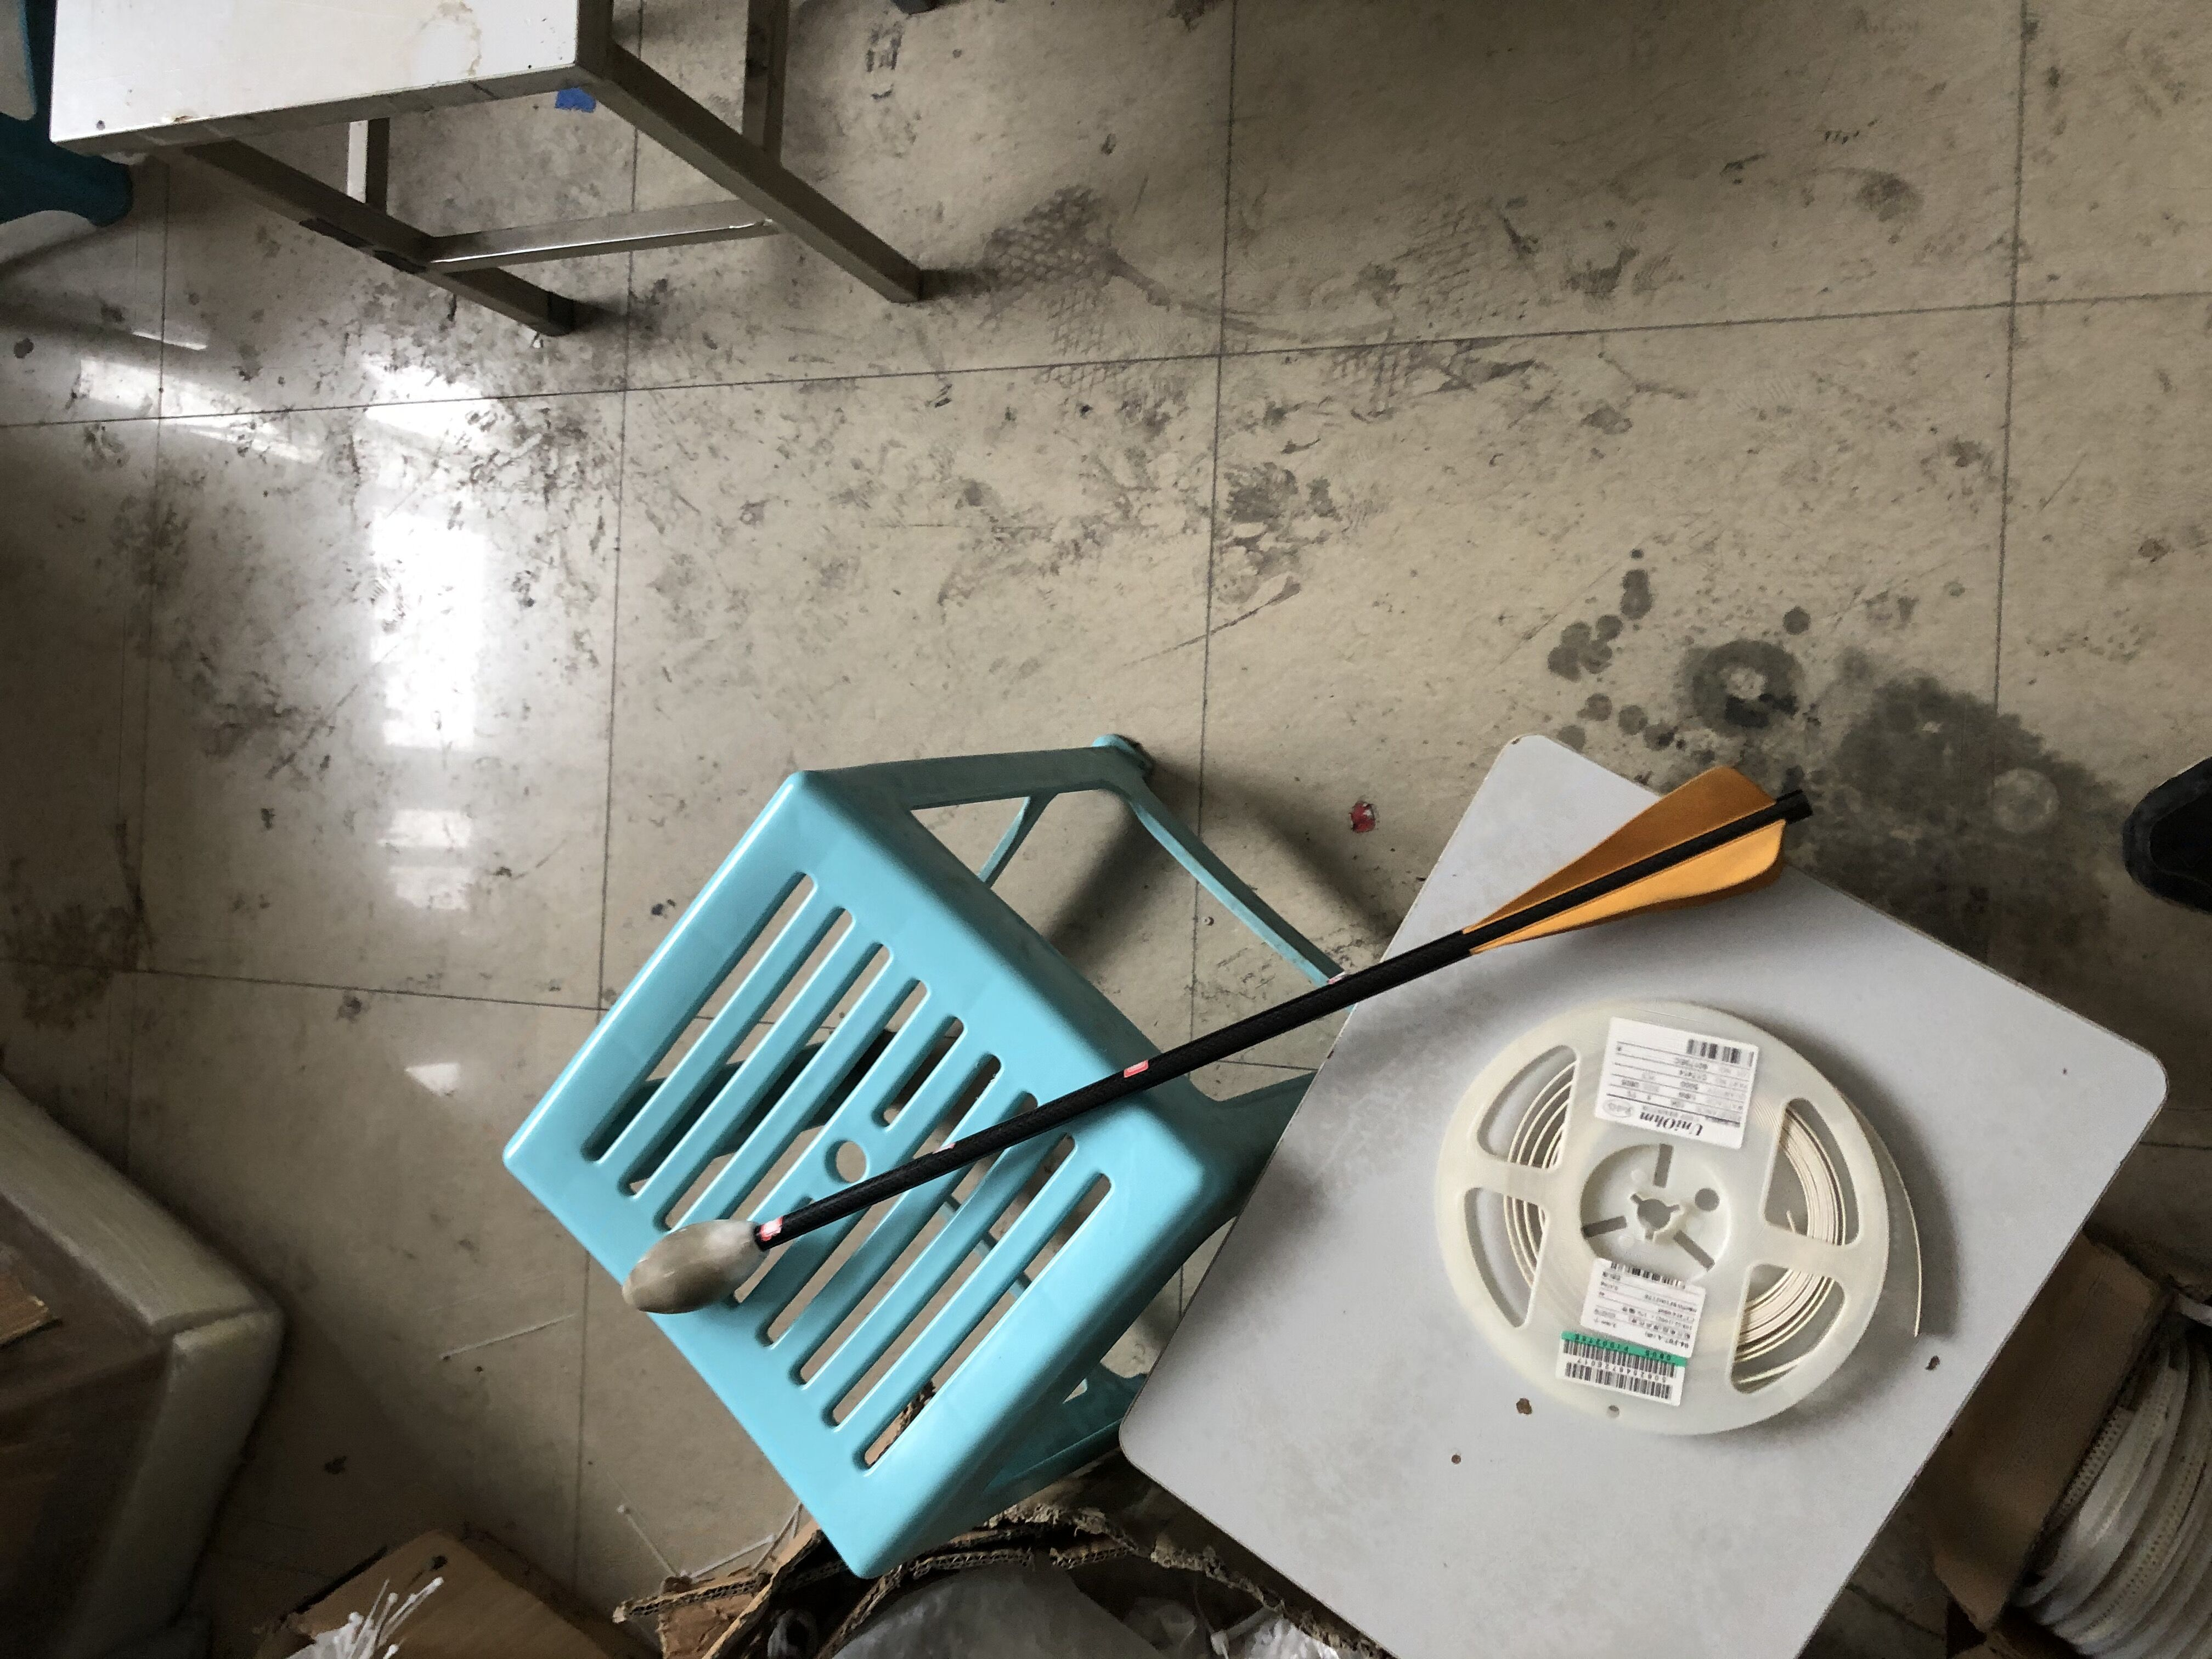arrow: (618, 765, 1810, 1323)
arrowFront: (617, 1215, 770, 1319)
